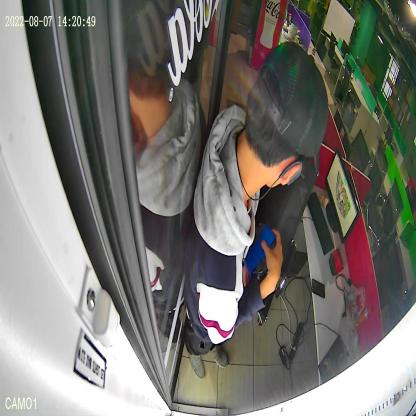blue: (243, 223, 276, 278)
